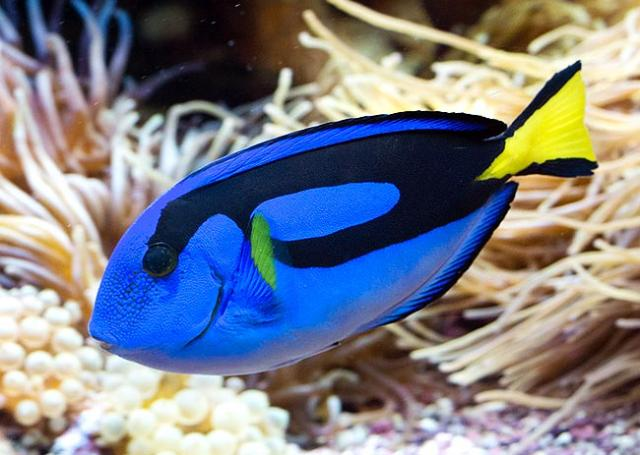Mulut: (65, 302, 131, 378)
Sirip Anal: (352, 176, 522, 356)
Sirip Dada: (195, 194, 305, 346)
Sirip Ekor: (481, 45, 619, 214)
Sirip Perut: (262, 332, 352, 390)
Sirip Punggung: (150, 105, 512, 194)
